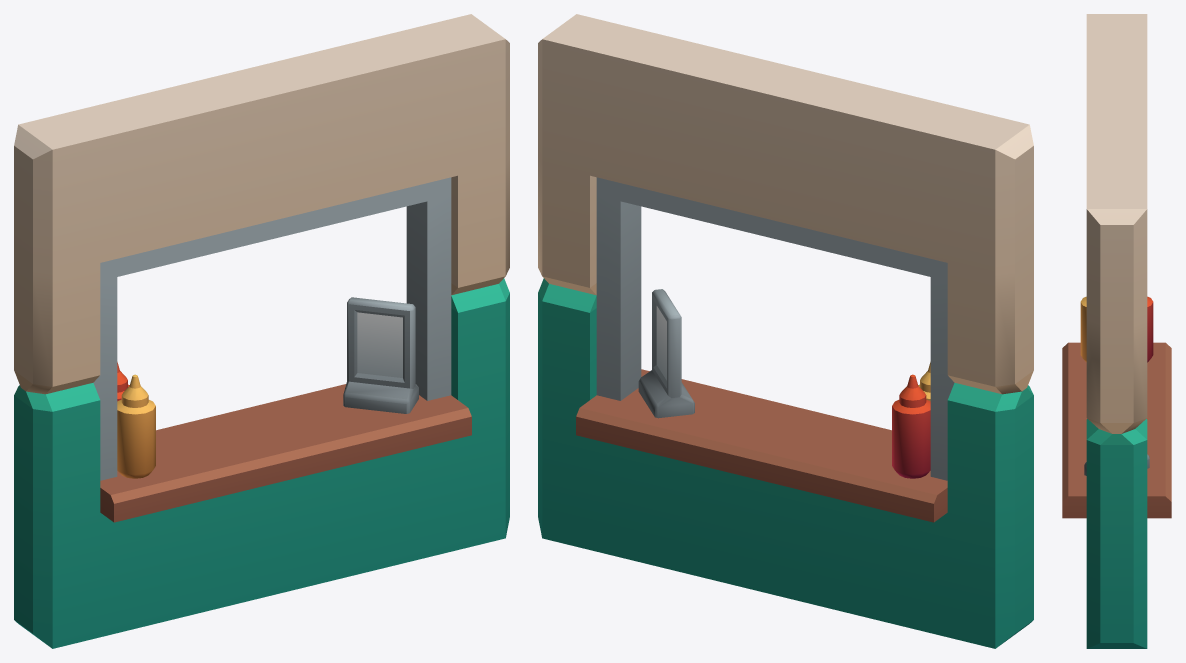
The model's file is OrderWindow.glb.
3 renders of one model, left to right at view 1: azimuth 30°, elevation 25°; view 2: azimuth 150°, elevation 25°; view 3: azimuth 270°, elevation 25°, orthographic. The views are drawn at different scales.
Parts seen in each view (by area): view 1: wall_orderwindow_decorated; view 2: wall_orderwindow_decorated; view 3: wall_orderwindow_decorated.
Part boxes in pixels (x1,y1,x2,y2): wall_orderwindow_decorated: (14, 14, 509, 648); wall_orderwindow_decorated: (538, 14, 1033, 648); wall_orderwindow_decorated: (1062, 14, 1171, 648).
Size of the model in its own units: 4 by 4 by 0.9.
1 material, 1 textured.
